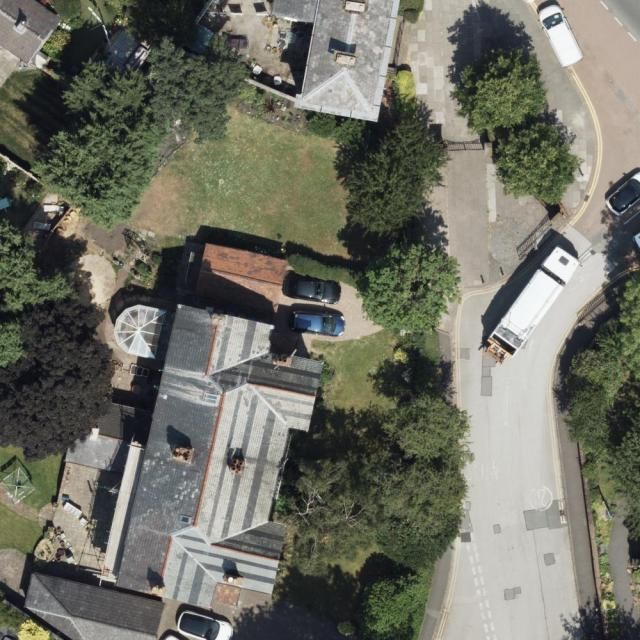roof: (23, 241, 326, 640), (270, 0, 402, 125), (0, 0, 63, 64)
skylight: (113, 306, 172, 356), (199, 391, 220, 406), (175, 513, 191, 526)
